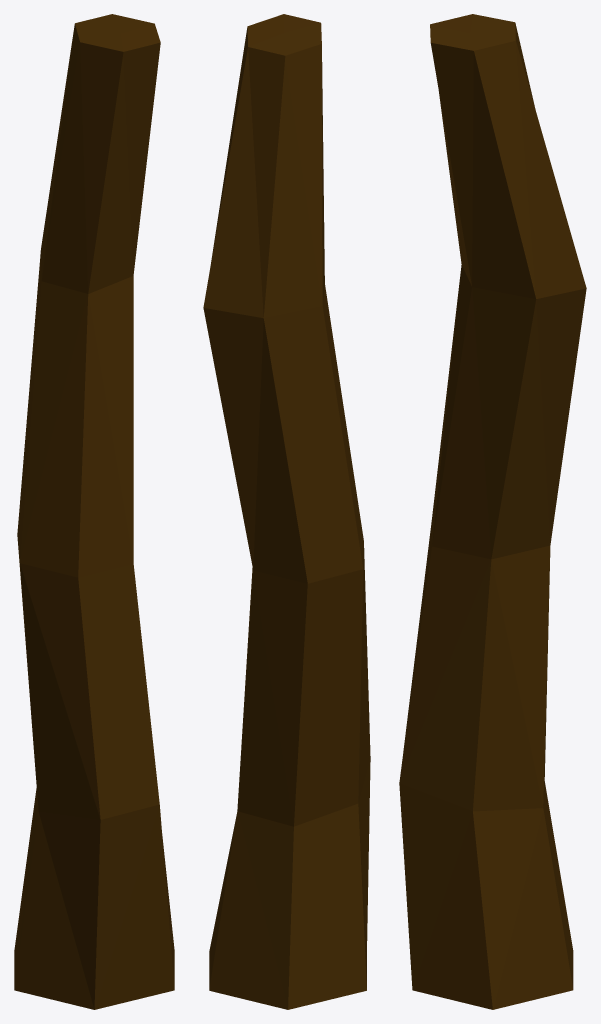
Rendered from Trunk.fbx.
3 renders of one model, left to right at view 1: azimuth 30°, elevation 25°; view 2: azimuth 150°, elevation 25°; view 3: azimuth 270°, elevation 25°, orthographic.
Visible parts, largest first — view 1: trunk; view 2: trunk; view 3: trunk.
Part boxes in pixels (x1,y1,x2,y2): trunk: [14, 14, 174, 1009]; trunk: [203, 14, 370, 1009]; trunk: [399, 14, 586, 1009].
Size of the model in its own units: 0.6147 by 3.45 by 0.6197.
